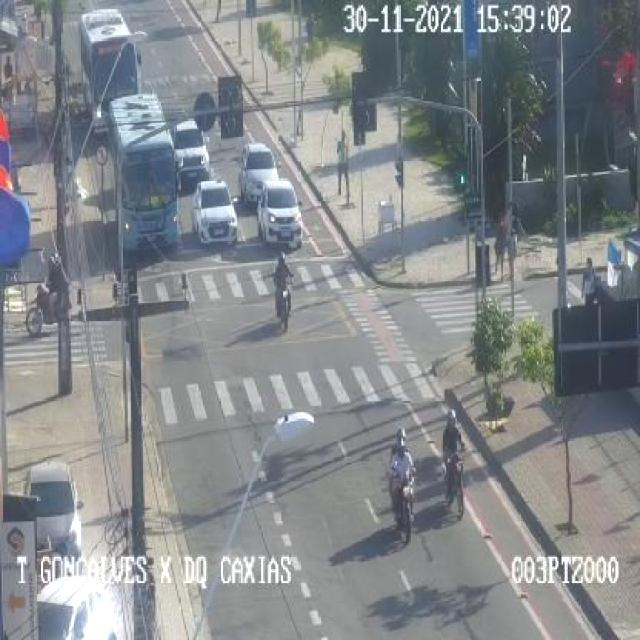Bus: (107, 86, 178, 258), (69, 0, 155, 112)
Car: (13, 456, 88, 570), (12, 574, 120, 640), (168, 115, 216, 188), (259, 182, 309, 250), (240, 139, 286, 200), (196, 180, 234, 246)
Cycle: (430, 398, 478, 526), (380, 420, 414, 539), (264, 256, 309, 338), (22, 275, 70, 345)
